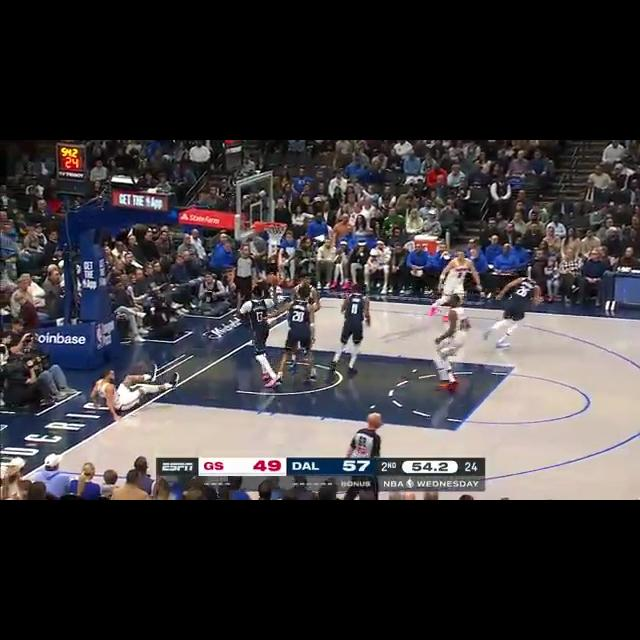Ball: (266, 272, 280, 288)
Team-1-Player: (230, 283, 284, 385), (325, 282, 375, 378), (280, 283, 324, 381)
Team-2-Player: (84, 364, 184, 418), (430, 294, 476, 388), (424, 244, 484, 314)
